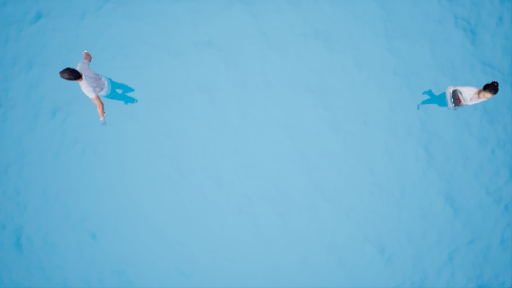person: (58, 47, 141, 120), (414, 75, 505, 118)
